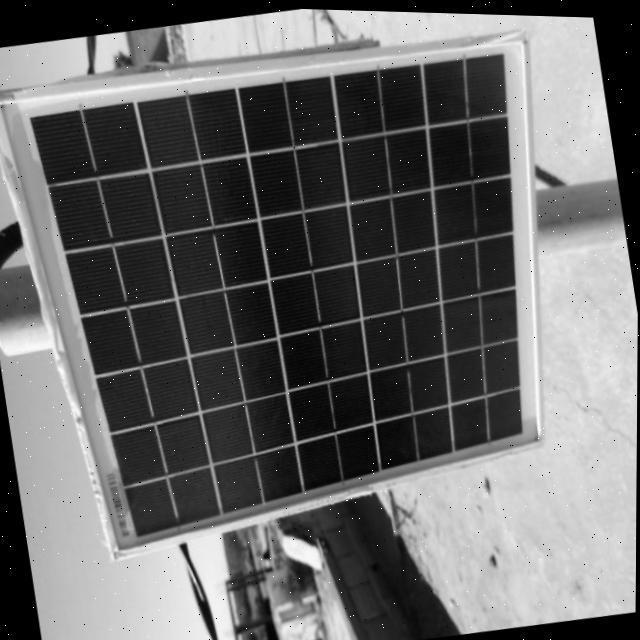Normal Solar Panel: (0, 9, 599, 578)
